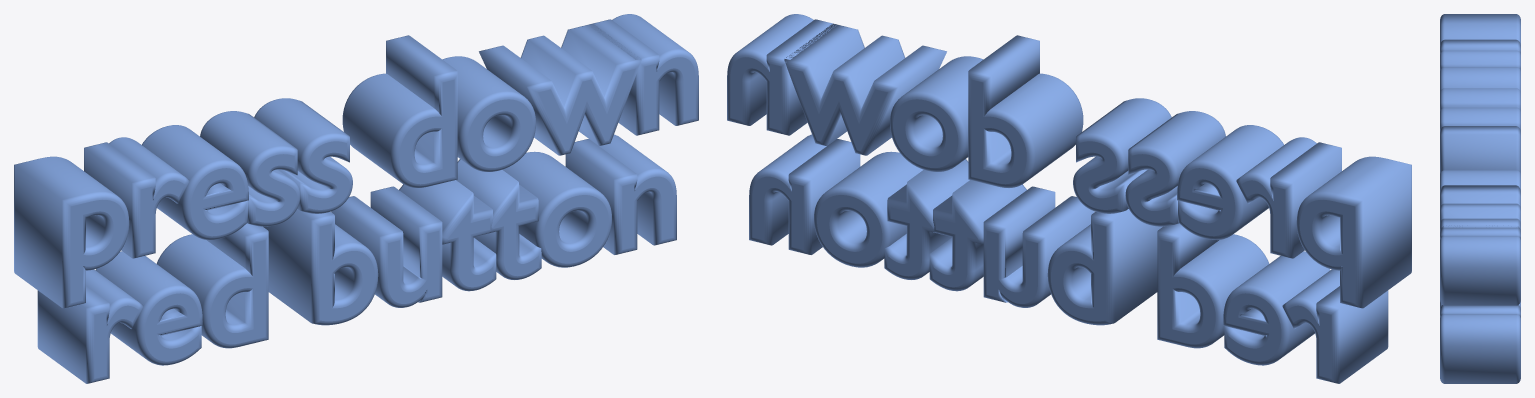
The model's file is hint.glb.
3 views of the same model, side by side, from view 1: azimuth 30°, elevation 25°; view 2: azimuth 150°, elevation 25°; view 3: azimuth 270°, elevation 25° (orthographic). The views are drawn at different scales.
Visible parts, largest first — view 1: Text; view 2: Text; view 3: Text.
Part boxes in pixels (x1=…): Text: x1=14, y1=14, x2=698, y2=383; Text: x1=727, y1=14, x2=1411, y2=383; Text: x1=1440, y1=14, x2=1520, y2=383.
Bounding box in the file's own units: 4.67 × 1.57 × 0.68.
